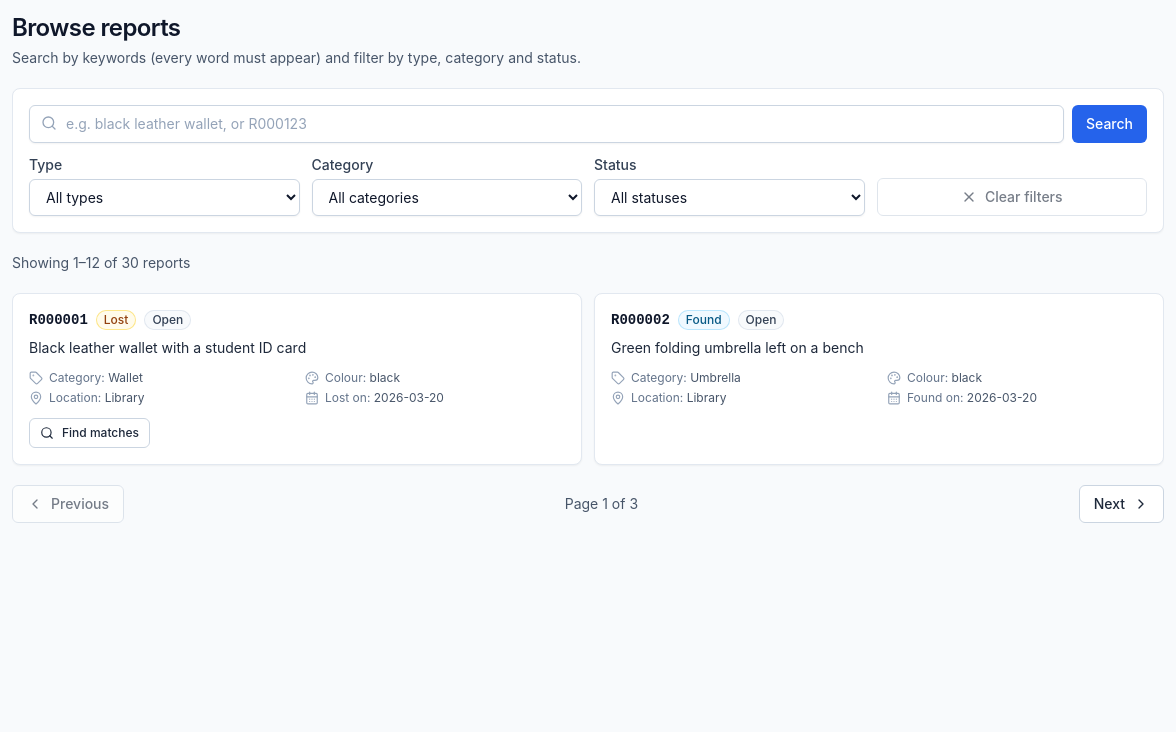
Test: Browse reports › paginates with the API's limit/offset
Expected: the text "Page 1 of 3" is shown, [565, 494, 638, 514]
Expected: the button "Previous" is disabled, [12, 485, 124, 523]
Click the button "Next" at (1121,504), box [1079, 485, 1164, 523]
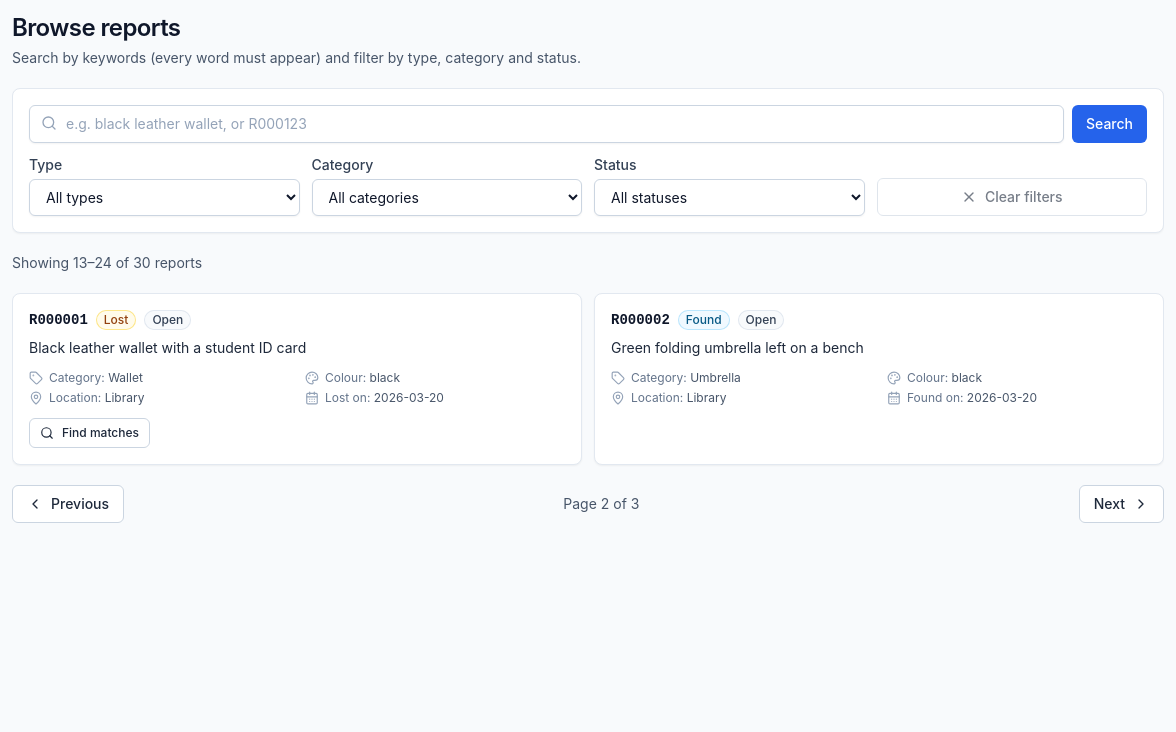
Now the text "Page 2 of 3" is shown, box [563, 494, 640, 514]
